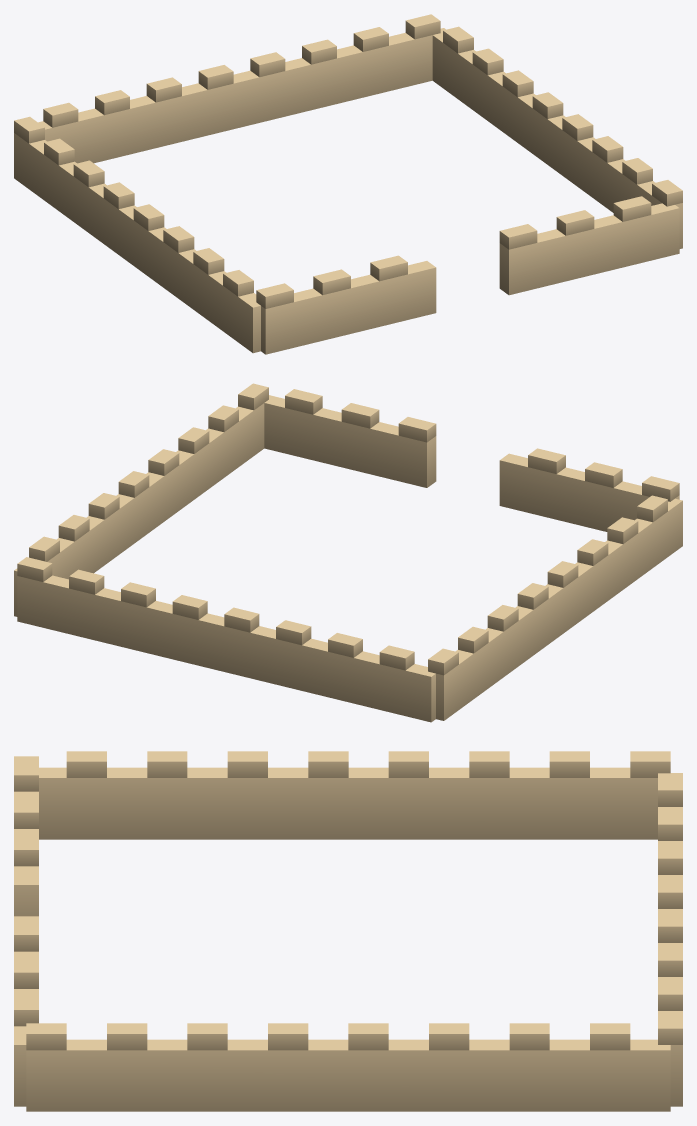
Rendered from wall_MA_1.glb.
3 renders of one model, top to bottom at view 1: azimuth 30°, elevation 25°; view 2: azimuth 150°, elevation 25°; view 3: azimuth 270°, elevation 25°, orthographic. The views are drawn at different scales.
Visible parts, largest first — view 1: Body; view 2: Body; view 3: Body.
Part boxes in pixels (<box>): Body: <box>14,14,682,354</box>; Body: <box>14,383,682,722</box>; Body: <box>14,751,682,1111</box>.
Size of the model in its own units: 5.92 by 0.76 by 5.92.
1 material, 1 textured.
